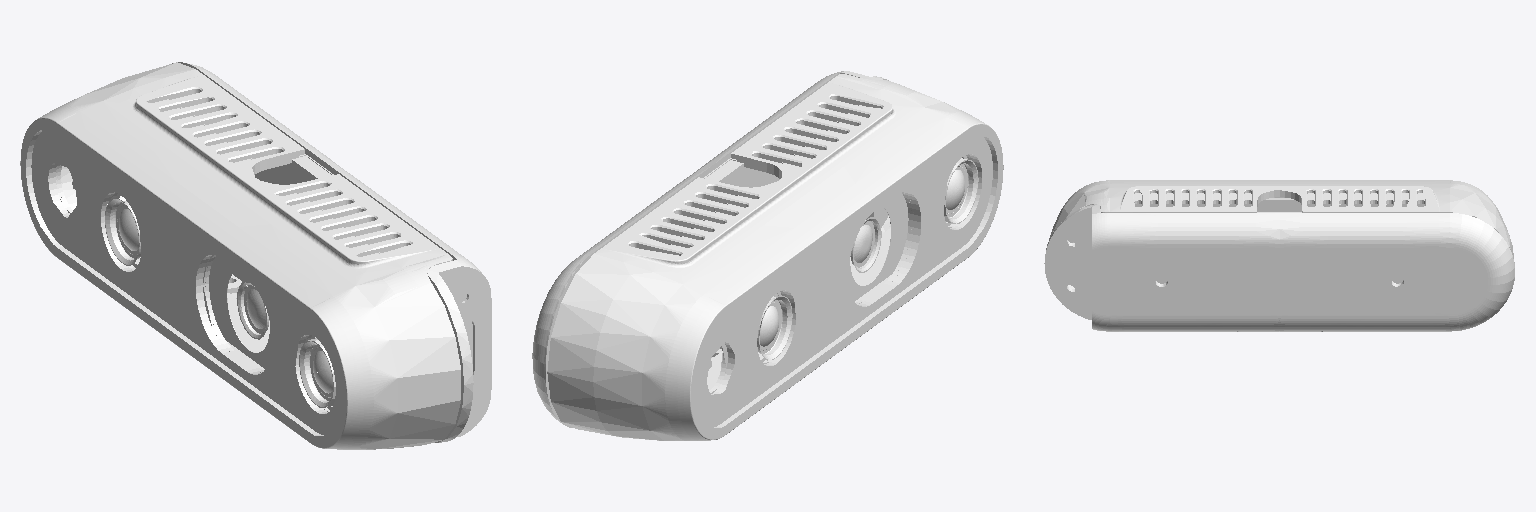
URDF robot description (d435):
<?xml version="1.0" ?>
<robot name="d435">
  <link name="d435Link">
  <contact>
      <lateral_friction value="1"/>
  </contact>
    <inertial>
      <origin rpy="0 0 0" xyz="0 0 0"/>
       <mass value=".0"/>
       <inertia ixx="0" ixy="0" ixz="0" iyy="0" iyz="0" izz="0"/>
    </inertial>
    <visual>
      <origin rpy="0 0 0" xyz="0 0 0"/>
      <geometry>
				<mesh filename="d435.obj" scale="1 1 1"/>
      </geometry>
       <material name="white">
        <color rgba="1 1 1 1"/>
      </material>
    </visual>
    <collision>
      <origin rpy="0 0 0" xyz="0 0 0"/>
      <geometry>
		<mesh filename="d435.obj" scale="1 1 1"/>
      </geometry>
    </collision>
  </link>
</robot>

--- Facts derived from the render (not from the file) ---
3 views of the same robot in one strip: view 1: azimuth 30°, elevation 25°; view 2: azimuth 150°, elevation 25°; view 3: azimuth 270°, elevation 25° (orthographic).
Model d435 with 1 links and 0 joints (none), rooted at d435Link, posed all joints at 0.
Visible links, largest first — view 1: d435Link; view 2: d435Link; view 3: d435Link.
Link boxes in pixels (x1,y1,x2,y2): d435Link: (20,62,491,449); d435Link: (532,71,1003,440); d435Link: (1044,180,1514,331).
Size in the robot's own frame: 0.025 by 0.0899 by 0.025 metres.
Meshes: 1 distinct files referenced, 1 mesh visuals loaded (1 OBJ).